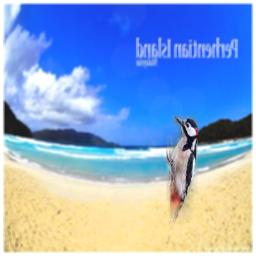Woodpecker: (166, 115, 198, 245)
